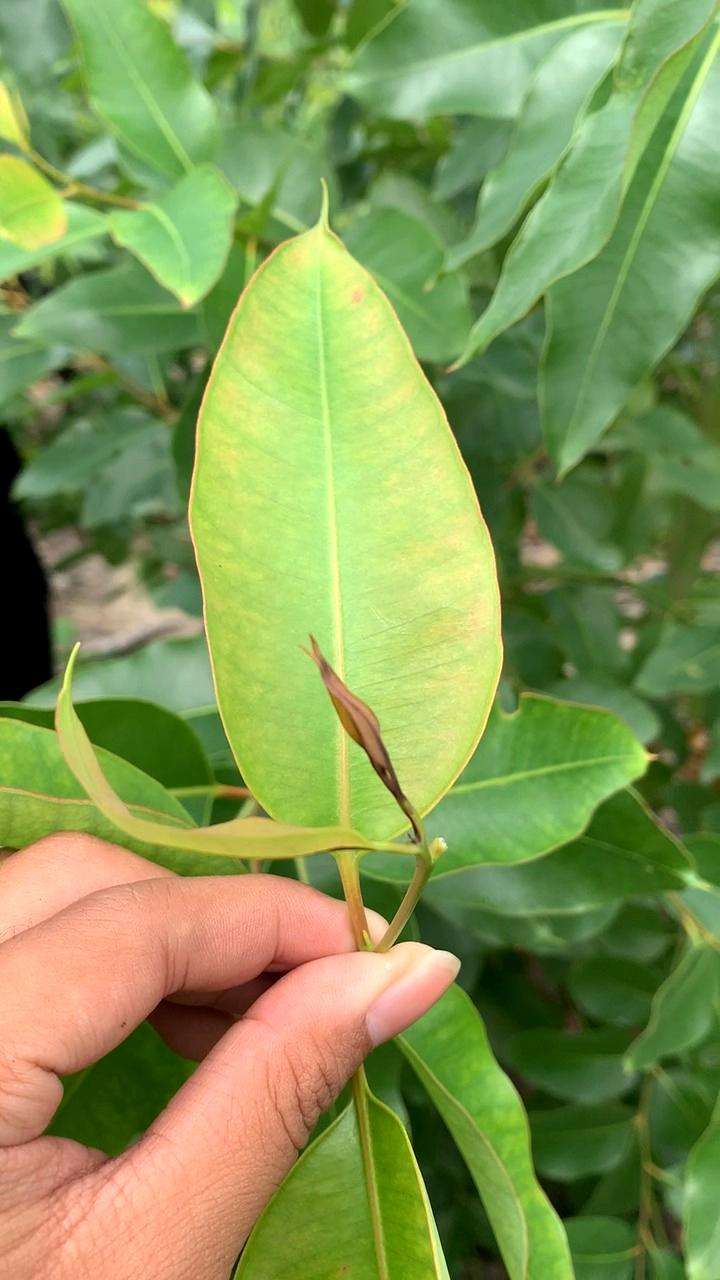Helopeltis-Withered Sprout: (288, 618, 445, 853)
